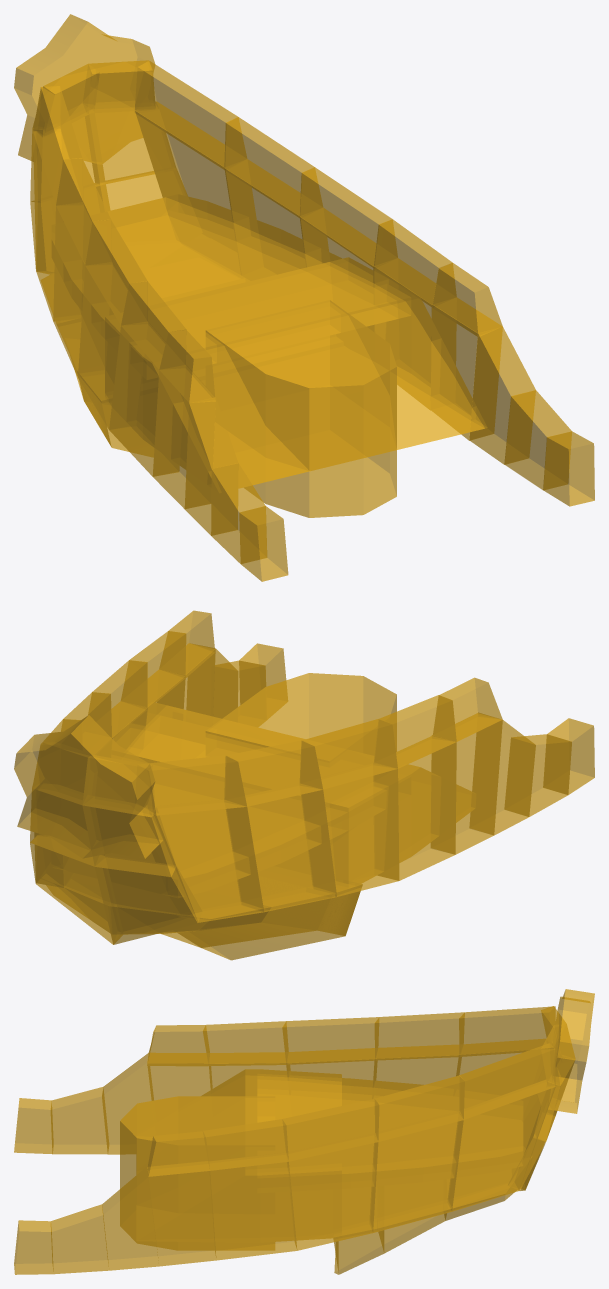
The model's file is SM_Veh_Ship_M_Back_01_Collision.fbx.
The picture shows the model from 3 angles, top to bottom: view 1: azimuth 30°, elevation 25°; view 2: azimuth 150°, elevation 25°; view 3: azimuth 270°, elevation 25°; orthographic projection. The views are drawn at different scales.
Visible parts, largest first — view 1: SM_Veh_Ship_M_Back_01_Collision; view 2: SM_Veh_Ship_M_Back_01_Collision; view 3: SM_Veh_Ship_M_Back_01_Collision.
Part boxes in pixels (x1=…): SM_Veh_Ship_M_Back_01_Collision: x1=14, y1=14, x2=594, y2=581; SM_Veh_Ship_M_Back_01_Collision: x1=14, y1=610, x2=594, y2=960; SM_Veh_Ship_M_Back_01_Collision: x1=14, y1=989, x2=594, y2=1274.
Size of the model in its own units: 674 by 669 by 1242.
